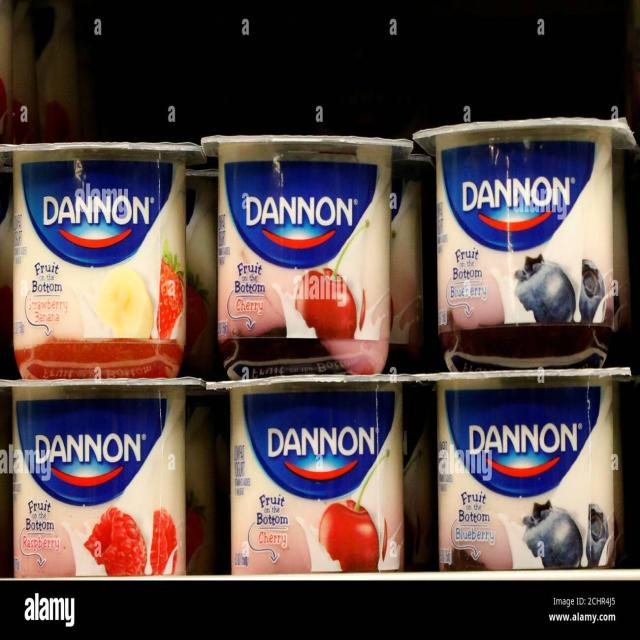plastic: (414, 117, 640, 572), (201, 127, 414, 573), (0, 137, 204, 578)
